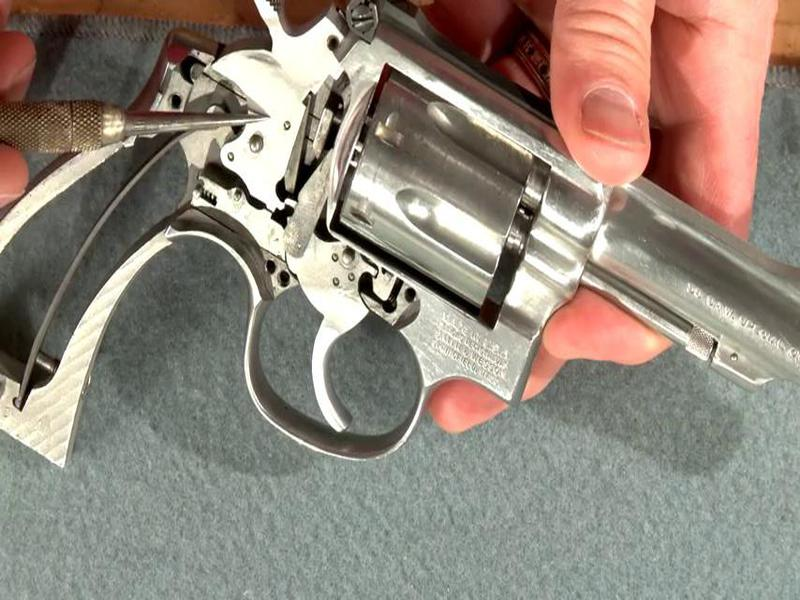Revolver: (52, 22, 800, 506)
